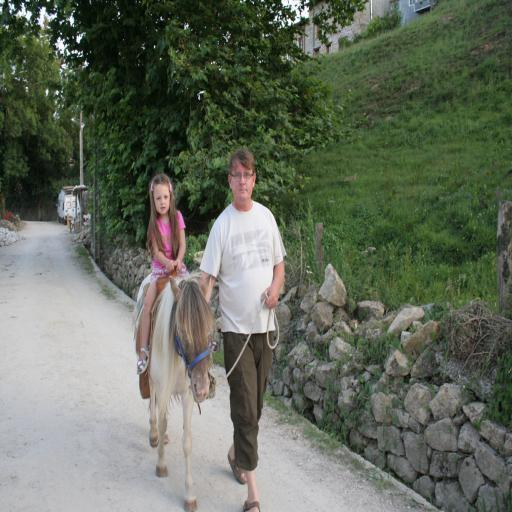horse: (132, 266, 214, 512)
